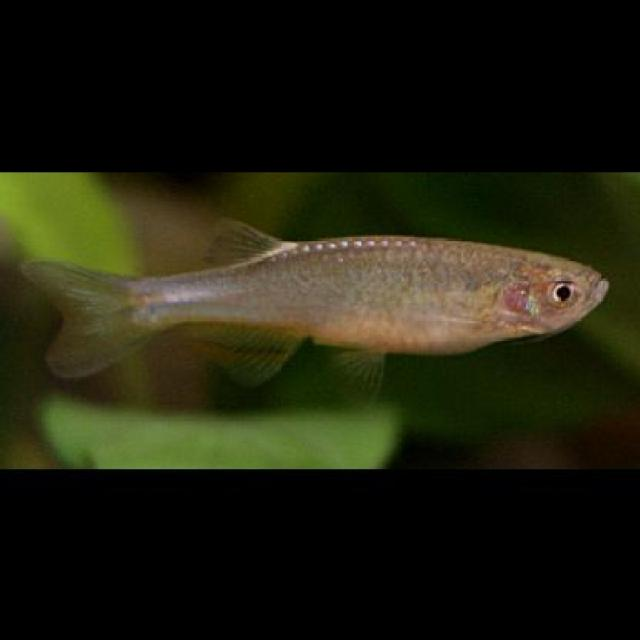ZebraFish: (24, 229, 607, 383)
